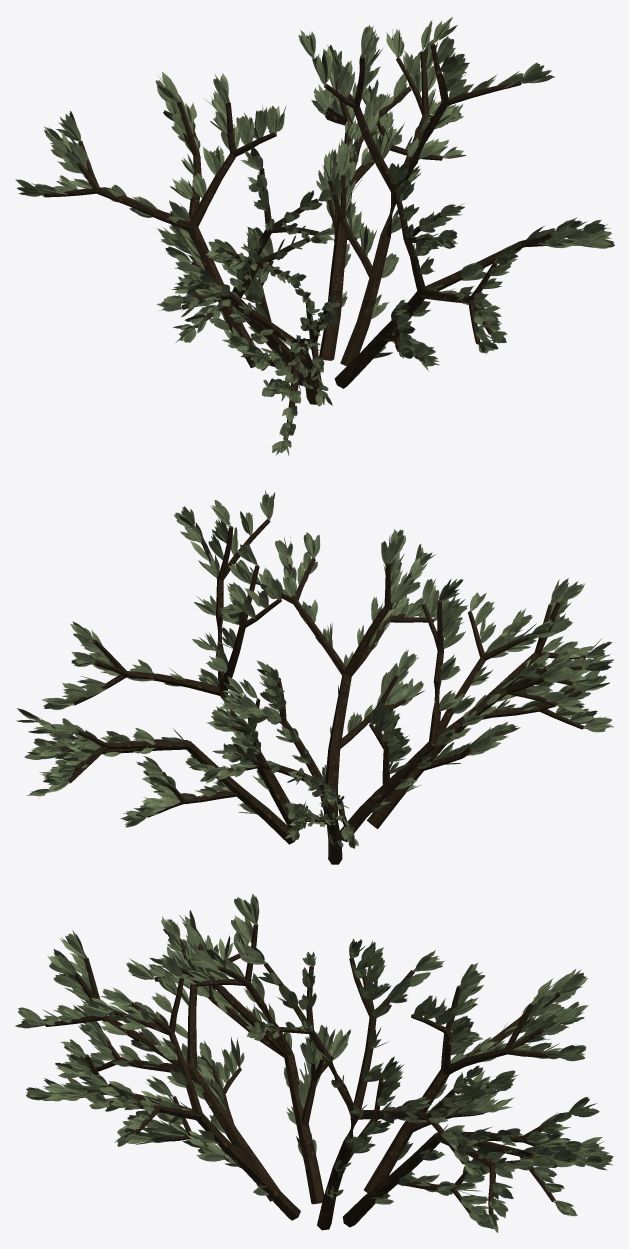
The model's file is heather_dwarf_v02.glb.
3 renders of one model, top to bottom at view 1: azimuth 30°, elevation 25°; view 2: azimuth 150°, elevation 25°; view 3: azimuth 270°, elevation 25°, orthographic. The views are drawn at different scales.
Parts seen in each view (by area): view 1: heather_dwarf_v02; view 2: heather_dwarf_v02; view 3: heather_dwarf_v02.
Boxes of the visible parts, x1,y1,x2,y2 form: heather_dwarf_v02: [15, 17, 614, 455]; heather_dwarf_v02: [16, 490, 613, 864]; heather_dwarf_v02: [14, 893, 613, 1232].
Size of the model in its own units: 0.631 by 0.4265 by 0.7152.
Materials: 2 (2 with a texture image).
